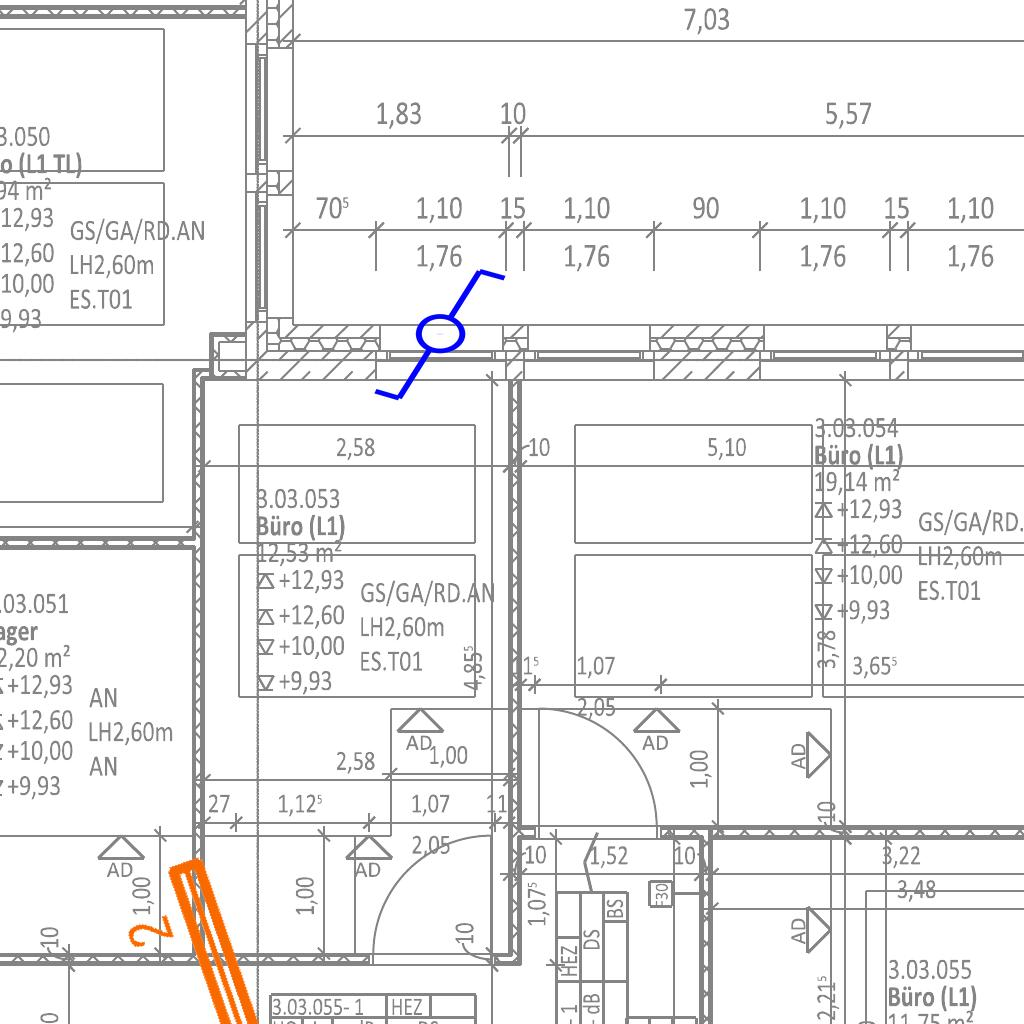Ambulanz_Pendelleuchte_LED: (104, 843, 462, 1024)
Wechselschalter: (370, 264, 527, 408)
